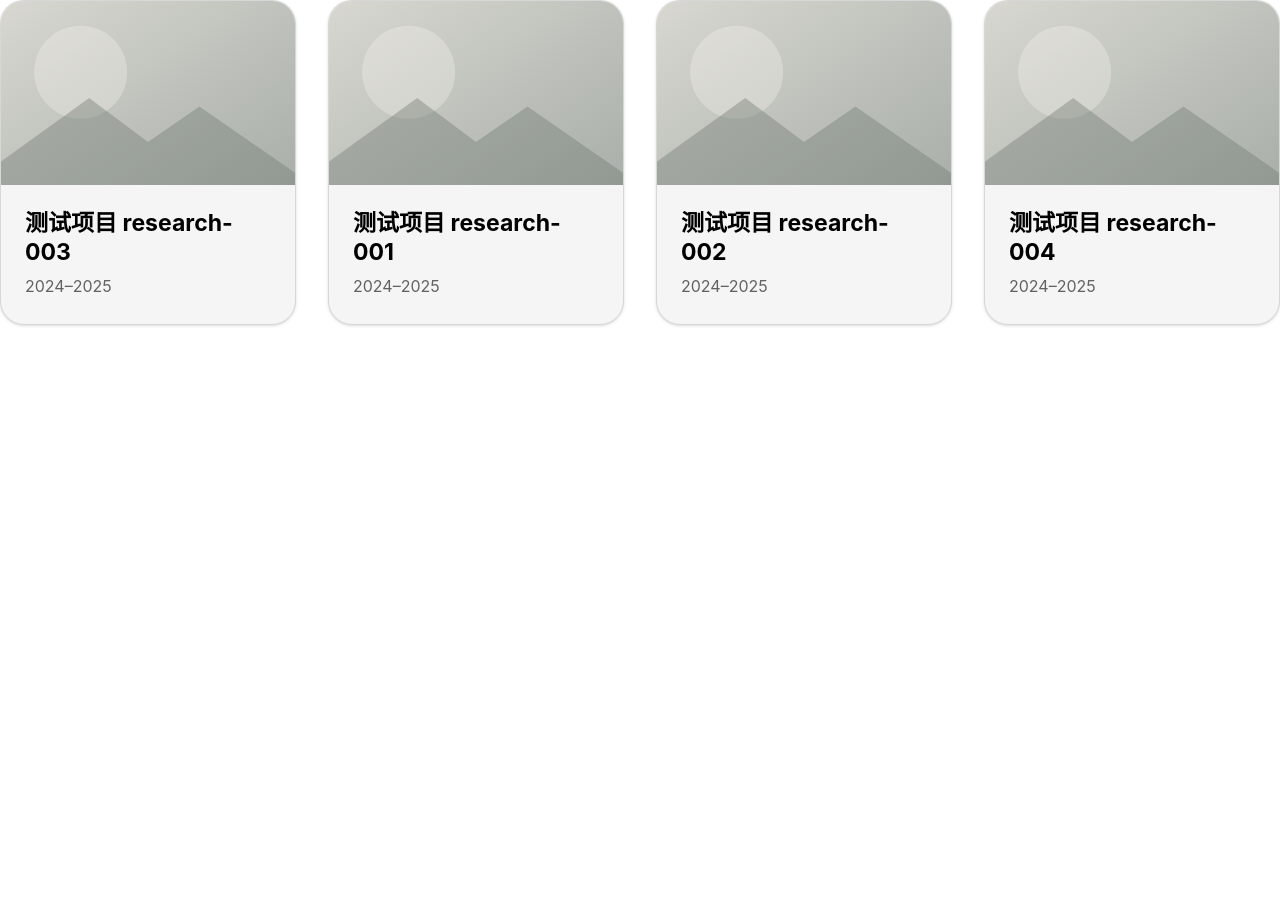
Test: ResearchShowcase › closes from the visible close button
This screenshot has width=1280, height=900.
What coordinates should you click on to do the following:
click the button "测试项目 research-001 2024–2025"
I would click on:
 (476, 162)
Its box is top-left (329, 1), bottom-right (623, 324).
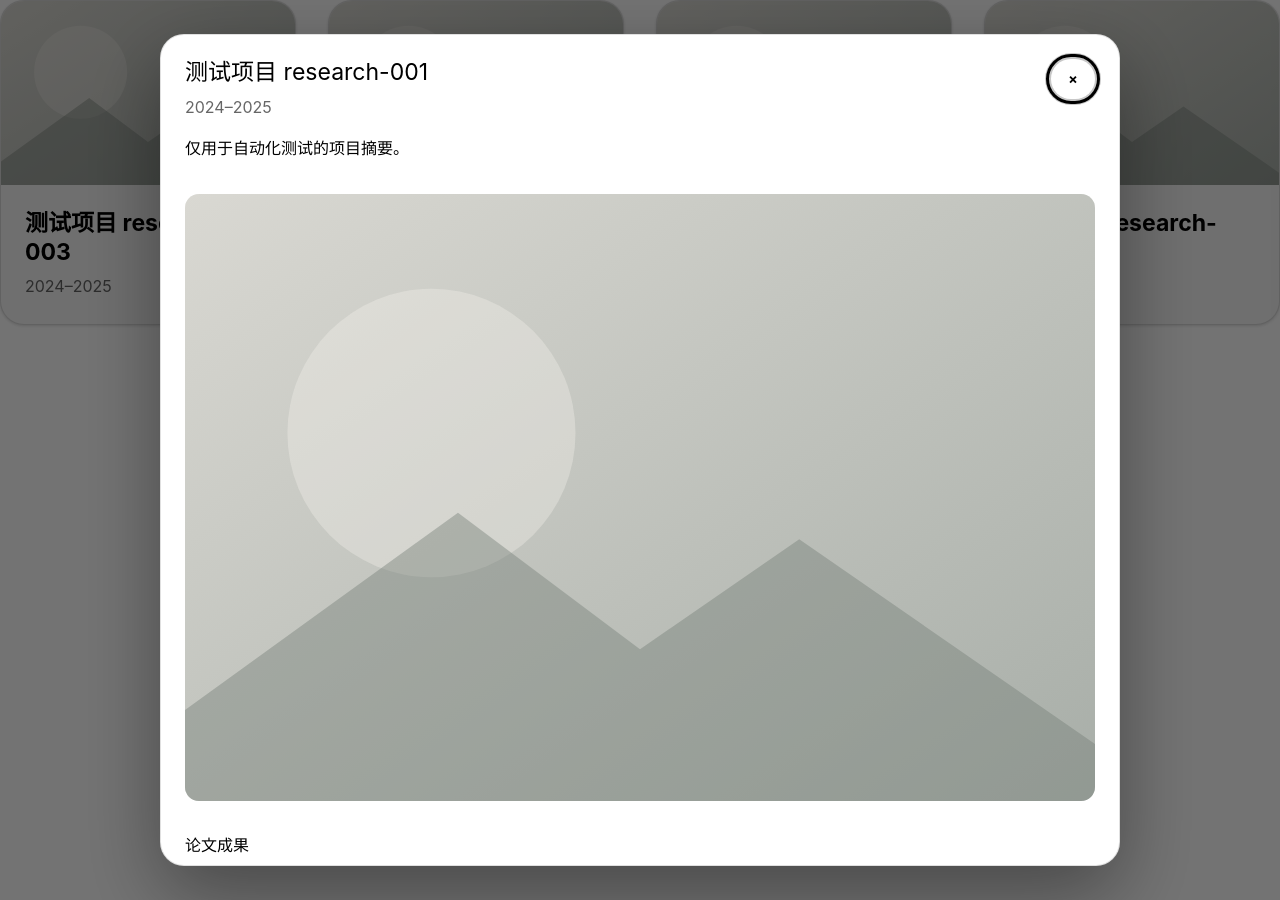
What coordinates should you click on to do the following:
click the button named "关闭弹窗"
I would click on:
 (1073, 79)
Its box is top-left (1051, 59), bottom-right (1095, 99).
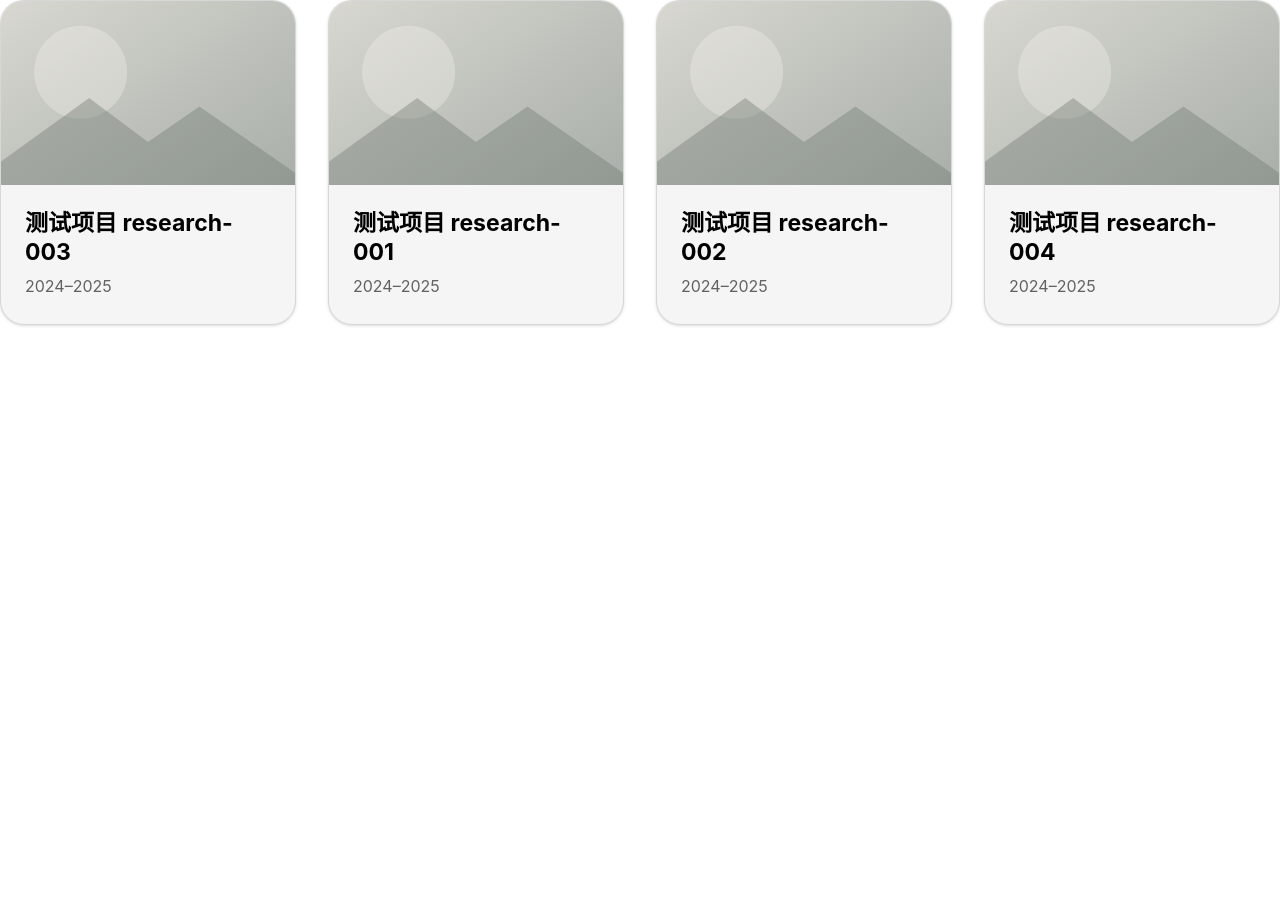
Expected: the dialog is gone
